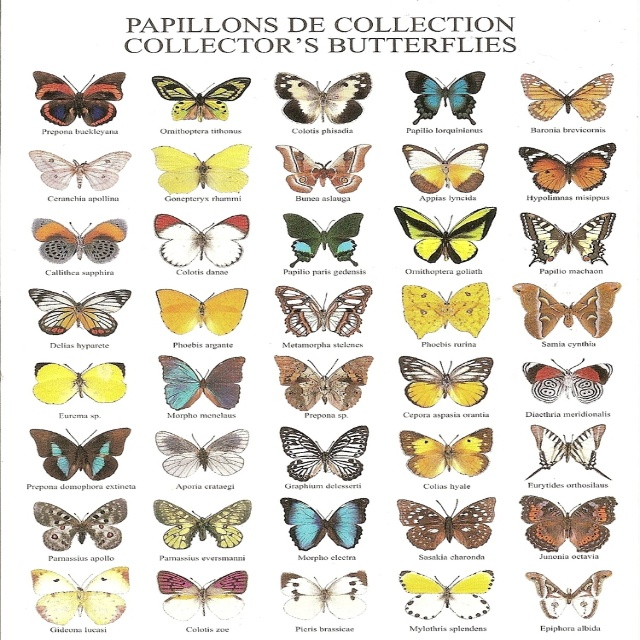Butterfly: (501, 281, 620, 342), (23, 65, 129, 132), (148, 344, 248, 415), (32, 562, 135, 630), (395, 203, 501, 268), (511, 490, 619, 553), (272, 68, 380, 130), (26, 424, 132, 487), (156, 564, 257, 630), (144, 142, 253, 202), (395, 495, 501, 555), (395, 566, 501, 626), (277, 350, 377, 413), (271, 278, 375, 338), (23, 496, 129, 554), (18, 142, 132, 195), (516, 66, 622, 123), (271, 136, 375, 193), (27, 213, 132, 269), (272, 494, 375, 551), (396, 283, 490, 345), (278, 424, 375, 482), (401, 68, 494, 128), (519, 212, 614, 270), (390, 140, 492, 194), (396, 356, 498, 410), (517, 351, 617, 406), (517, 145, 616, 200), (146, 75, 259, 123), (526, 422, 614, 483), (390, 427, 495, 478), (283, 565, 375, 623), (158, 426, 253, 482), (152, 213, 247, 268), (30, 280, 120, 337), (29, 359, 132, 408), (157, 500, 253, 552), (152, 288, 251, 336), (527, 572, 616, 625), (280, 214, 360, 269)
